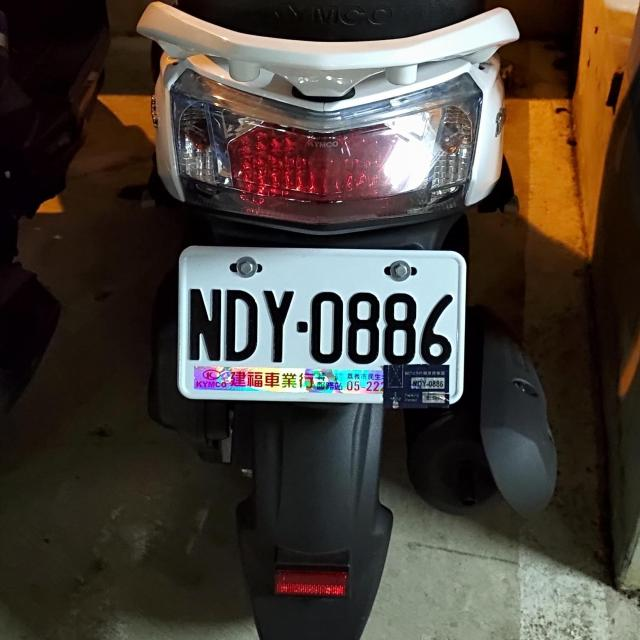W: (173, 240, 466, 406)
